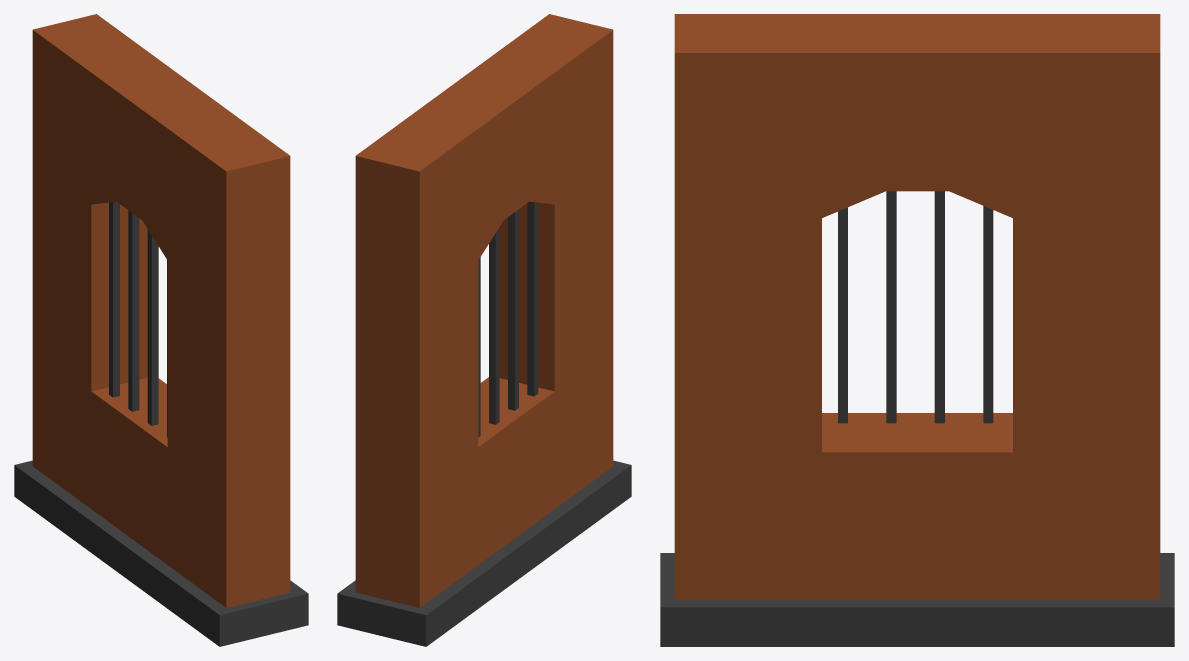
File: aken1.fbx
The picture shows the model from 3 angles, left to right: view 1: azimuth 30°, elevation 25°; view 2: azimuth 150°, elevation 25°; view 3: azimuth 270°, elevation 25°; orthographic projection. The views are drawn at different scales.
Parts seen in each view (by area): view 1: Cube.002; view 2: Cube.002; view 3: Cube.002.
Part boxes in pixels (x1,y1,x2,y2): Cube.002: (14,14,308,646); Cube.002: (337,14,631,646); Cube.002: (660,14,1174,646).
Size of the model in its own units: 65.46 by 329 by 262.
